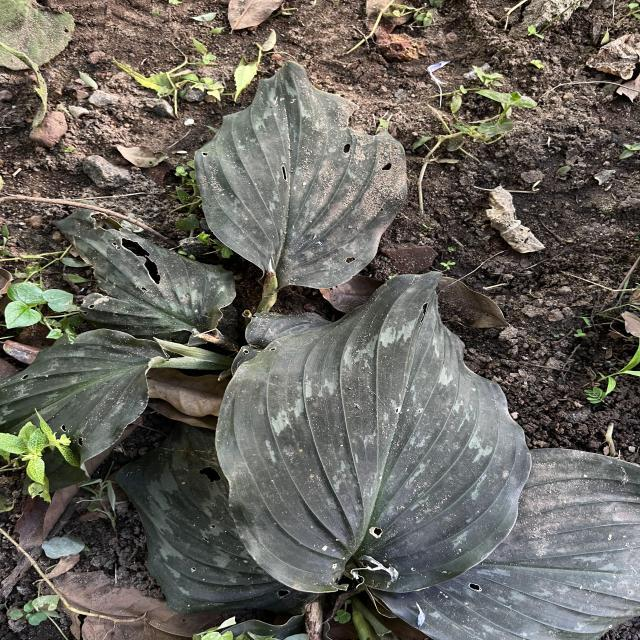Kaempferia galanga linn: (212, 268, 536, 598), (191, 55, 409, 292)
